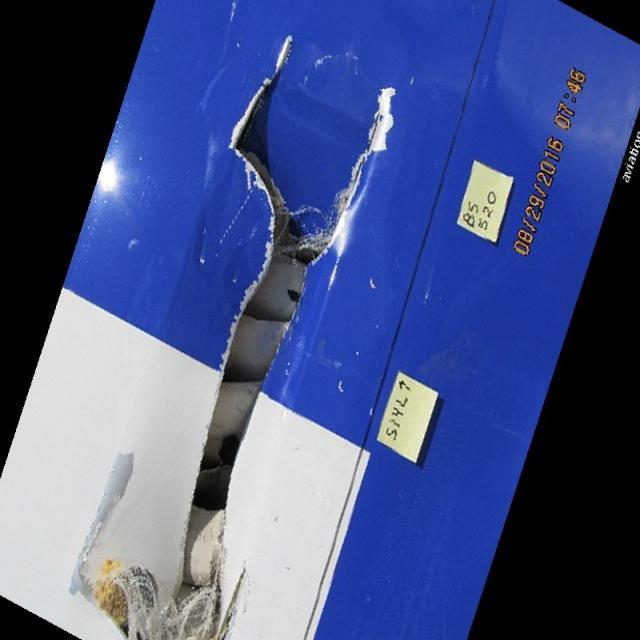crack: (319, 105, 392, 198)
